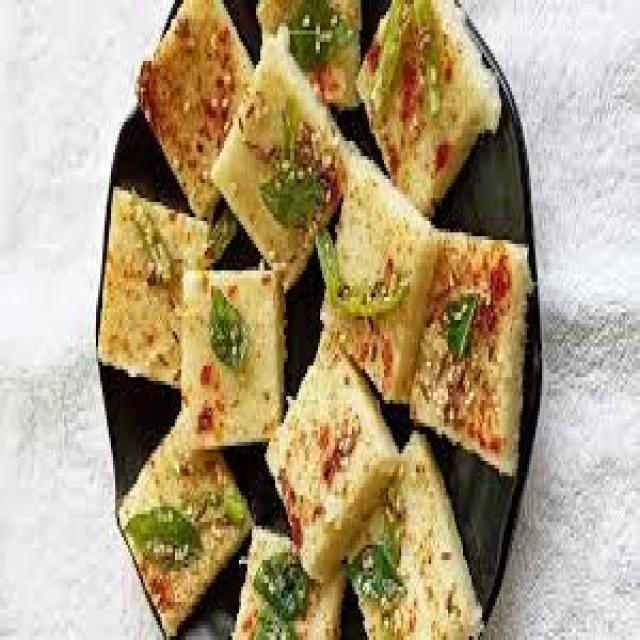DHOKLA: (95, 0, 532, 636)
